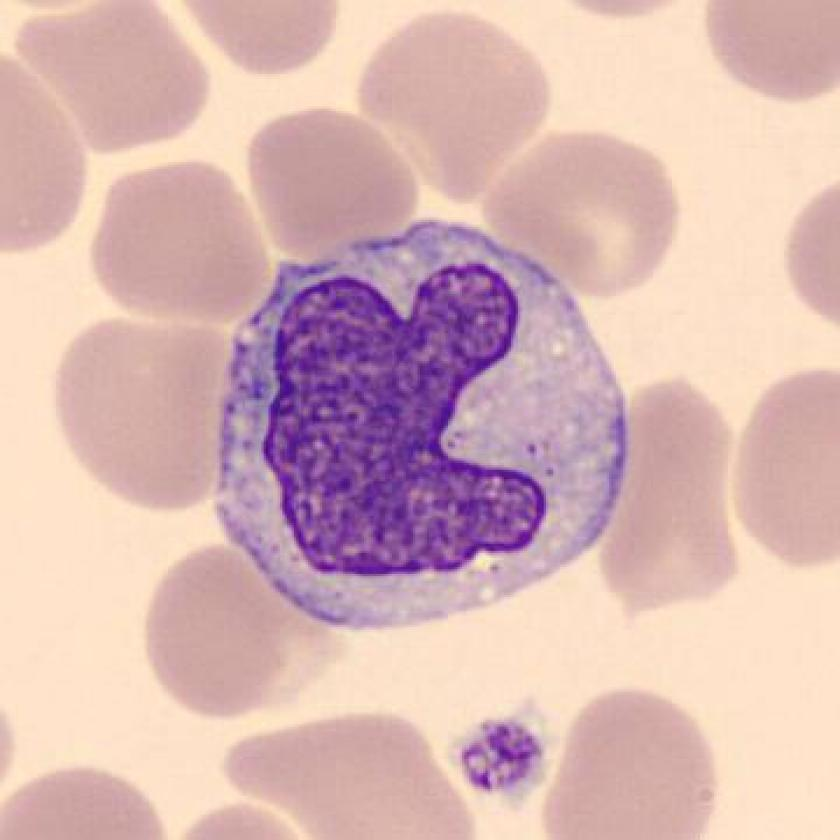monocyte: (192, 212, 643, 644)
